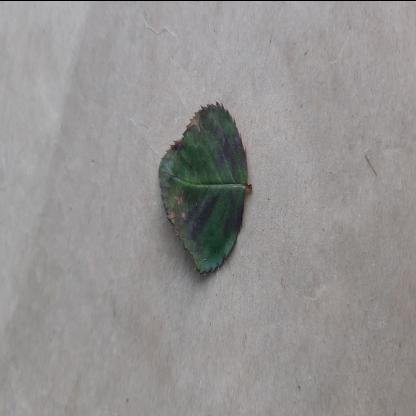downy-mildew: (157, 83, 249, 282)
